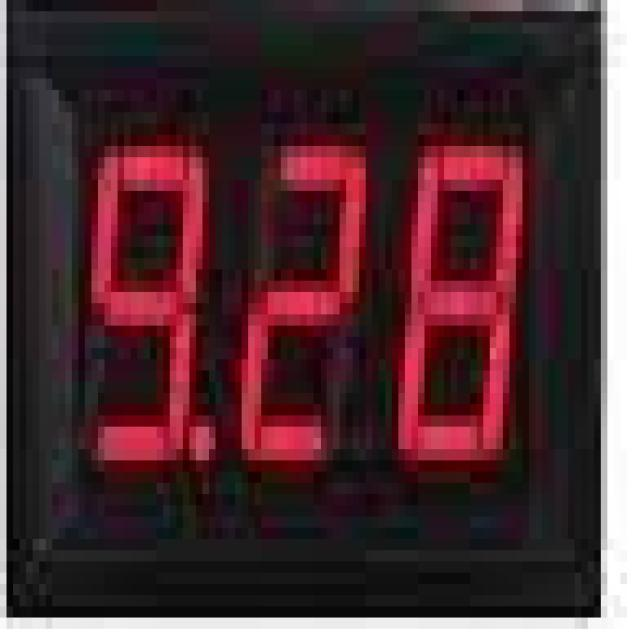2: (241, 90, 374, 490)
8: (393, 101, 535, 492)
9: (57, 83, 215, 475)
screen: (51, 78, 542, 504)
